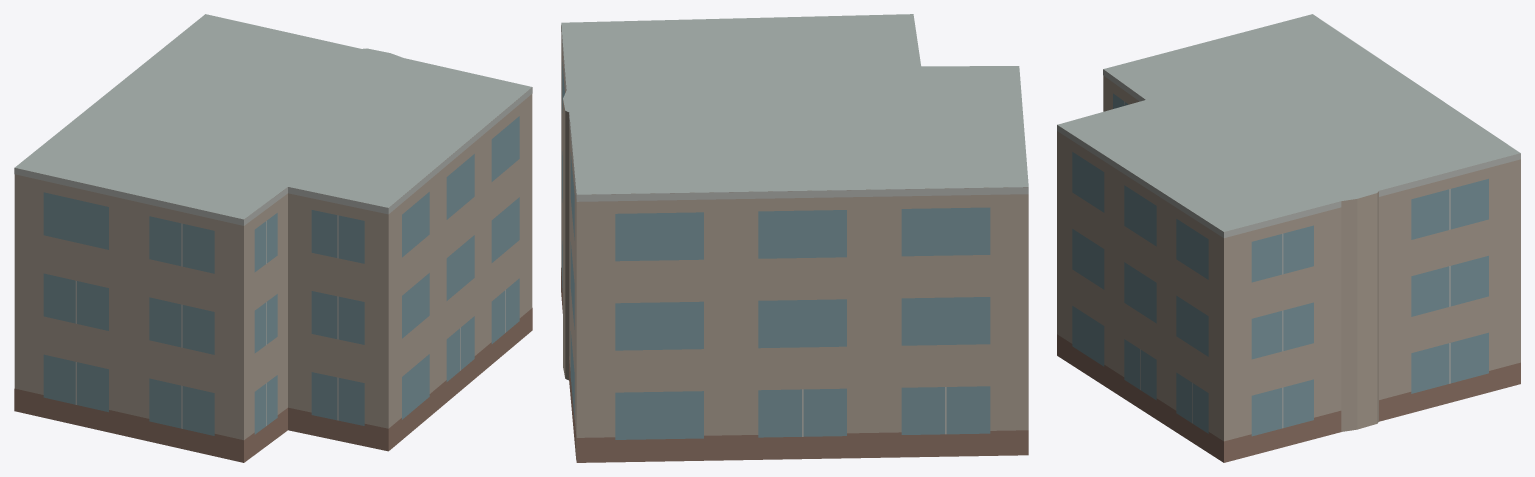
The model's file is survey-upis-32609996.glb.
3 views of the same model, side by side, from view 1: azimuth 30°, elevation 25°; view 2: azimuth 150°, elevation 25°; view 3: azimuth 270°, elevation 25° (orthographic). The views are drawn at different scales.
Parts seen in each view (by area): view 1: survey-upis-32609996.tmp; view 2: survey-upis-32609996.tmp; view 3: survey-upis-32609996.tmp.
Part boxes in pixels (x1,y1,x2,y2): survey-upis-32609996.tmp: (14,14,532,462); survey-upis-32609996.tmp: (561,14,1028,462); survey-upis-32609996.tmp: (1057,14,1520,462).
Size of the model in its own units: 18.55 by 9.15 by 16.67.
